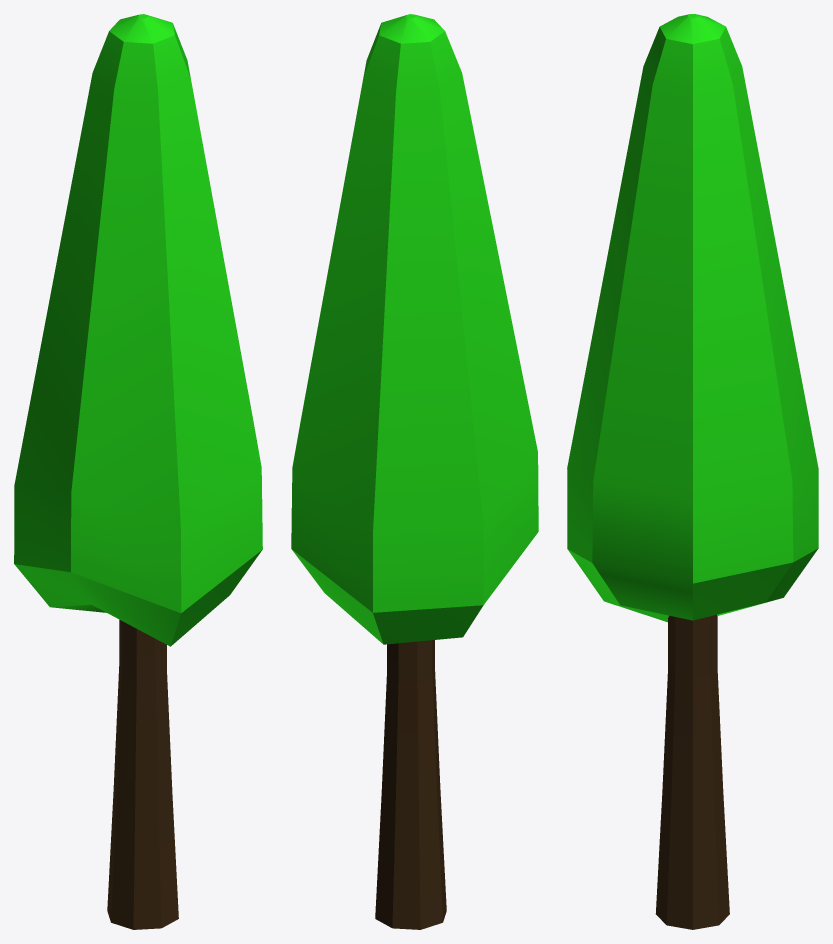
Rendered from Tree_03.FBX.
3 renders of one model, left to right at view 1: azimuth 30°, elevation 25°; view 2: azimuth 150°, elevation 25°; view 3: azimuth 270°, elevation 25°, orthographic.
Visible parts, largest first — view 1: Tree_03; view 2: Tree_03; view 3: Tree_03.
Part boxes in pixels (x1,y1,x2,y2): Tree_03: [14, 14, 262, 929]; Tree_03: [291, 14, 538, 929]; Tree_03: [567, 14, 818, 929].
Size of the model in its own units: 2.55 by 10.32 by 2.62.
